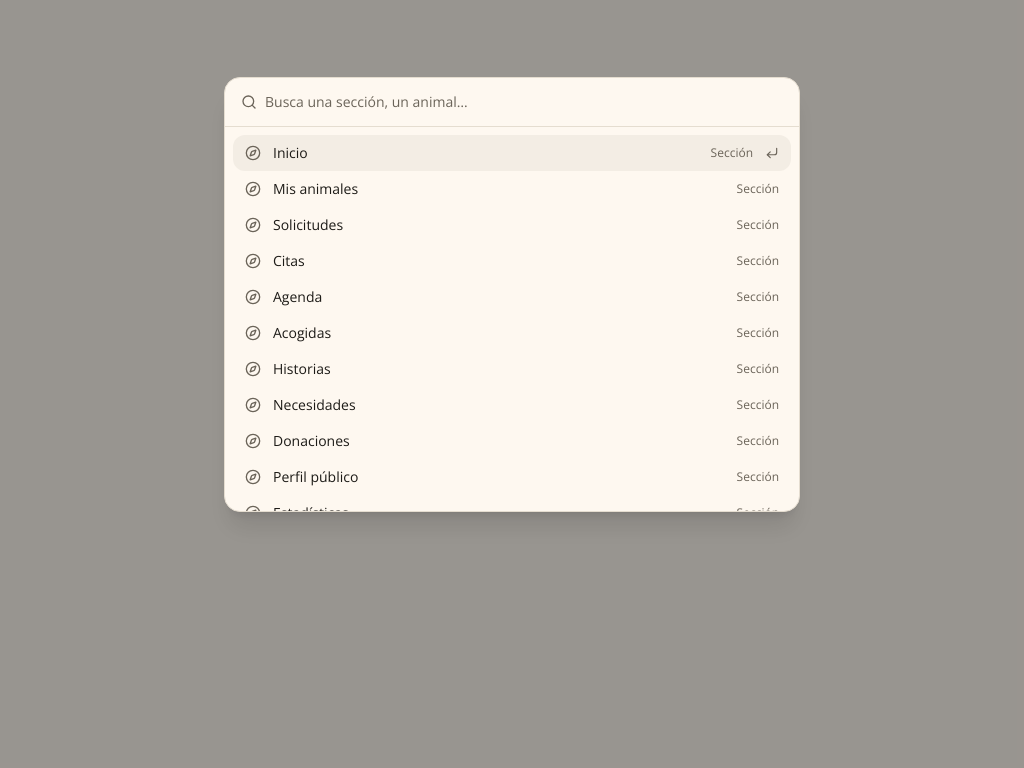
Test: CommandPalette › filtra las secciones por el término escrito
Type "agenda" into the field at (524, 102), box left=265, top=78, right=783, bottom=126
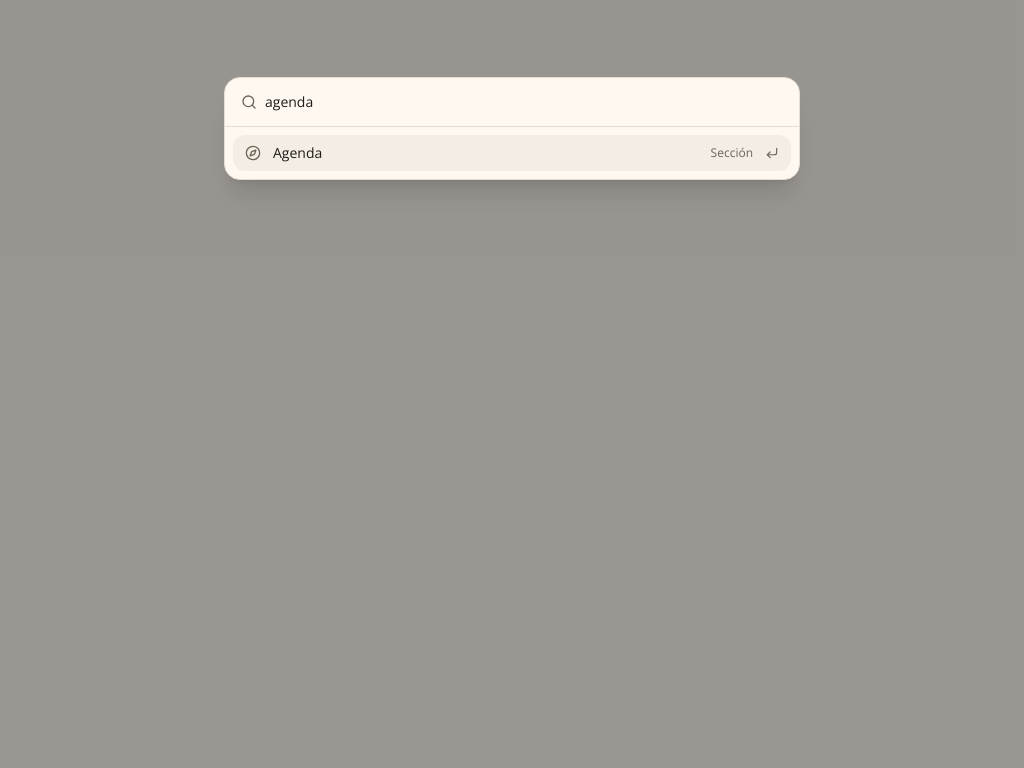
Expected: the text "Agenda" is shown, left=273, top=143, right=322, bottom=162
Expected: the button "Mis animales" is gone
